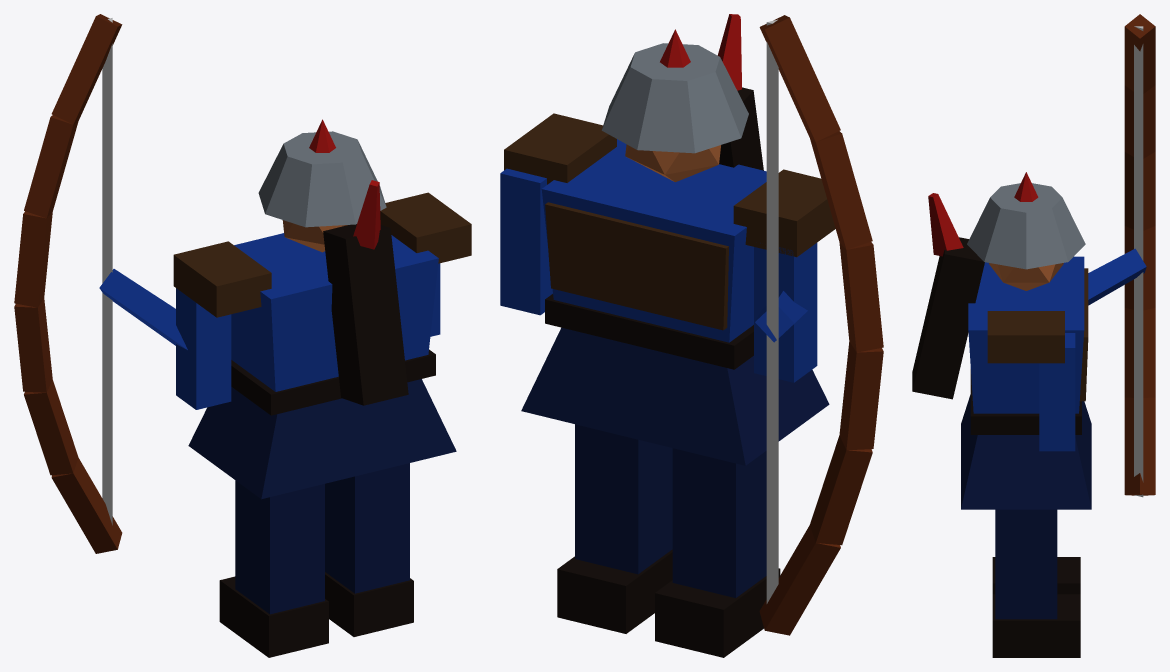
Rendered from unit_archer.glb.
3 views of the same model, side by side, from view 1: azimuth 30°, elevation 25°; view 2: azimuth 150°, elevation 25°; view 3: azimuth 270°, elevation 25° (orthographic). The views are drawn at different scales.
Visible parts, largest first — view 1: UNIT_archer_ally; view 2: UNIT_archer_ally; view 3: UNIT_archer_ally.
Part boxes in pixels (bbox=[...]): UNIT_archer_ally: bbox=[14, 14, 471, 657]; UNIT_archer_ally: bbox=[500, 14, 883, 657]; UNIT_archer_ally: bbox=[912, 14, 1155, 657].
Size of the model in its own units: 0.7448 by 1.15 by 0.4703.
